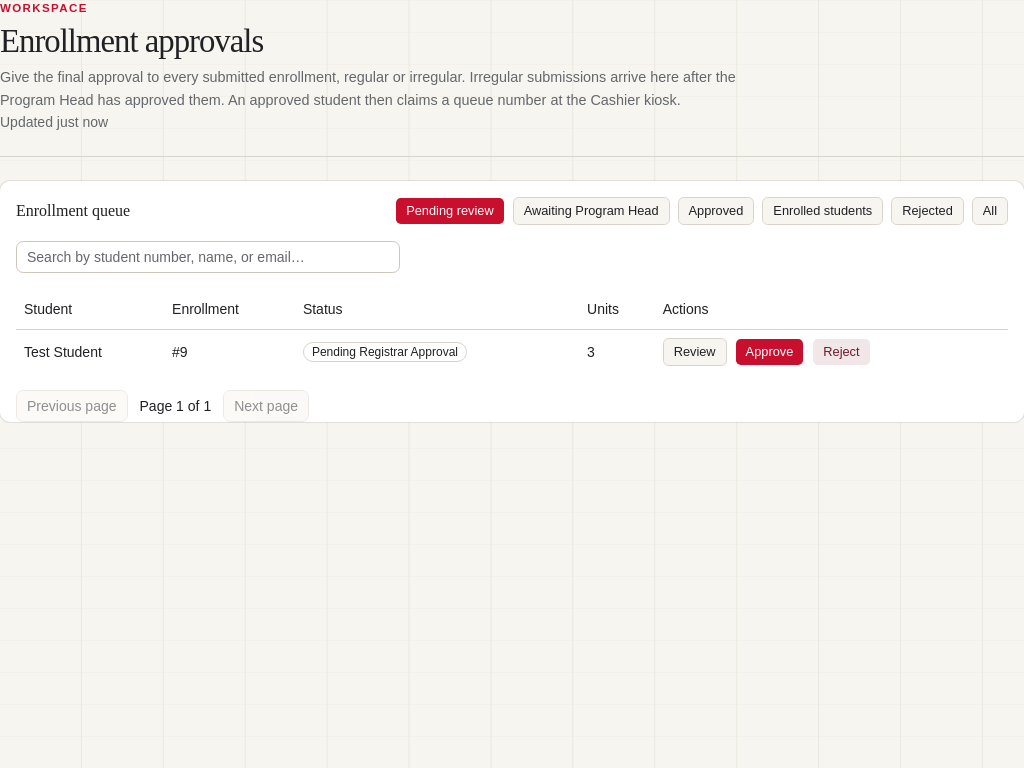
RegistrarEnrollmentWorkspace › opens the student's information from their name for the Registrar Head only
Click the button "Test Student" at point(63, 352), box [24, 342, 102, 362]
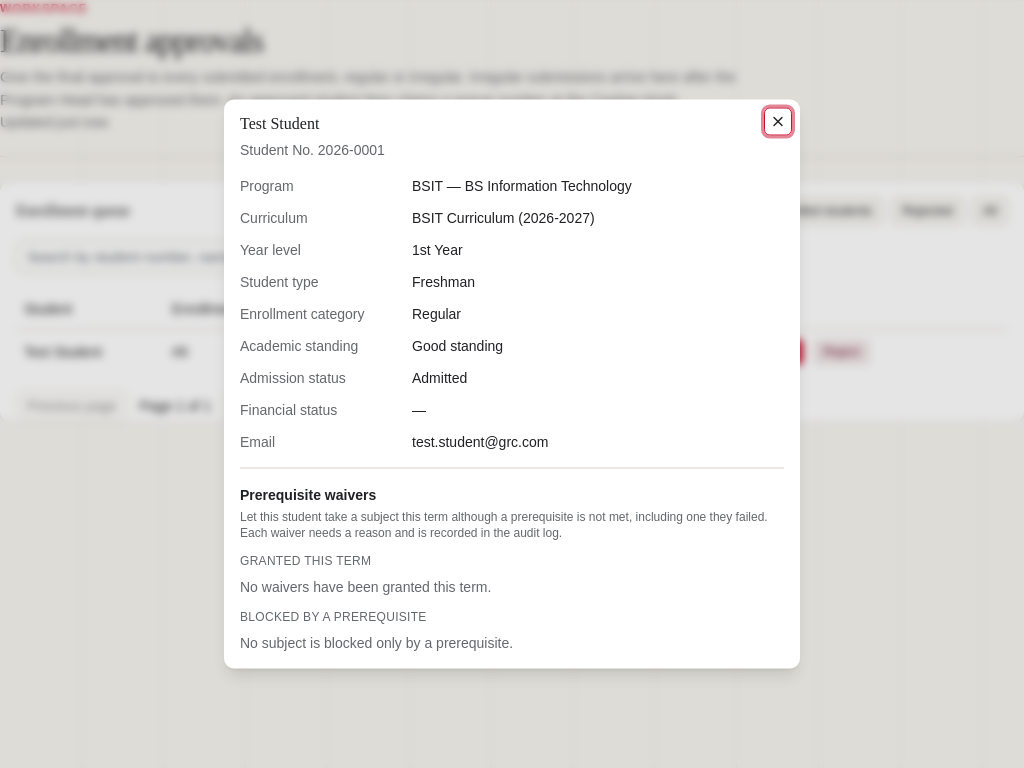
Expected: the text "BSIT — BS Information Technology" is shown, [412, 178, 632, 194]
Expected: the text "1st Year" is shown, [412, 242, 463, 258]
Expected: the text "Good standing" is shown, [412, 338, 503, 354]
